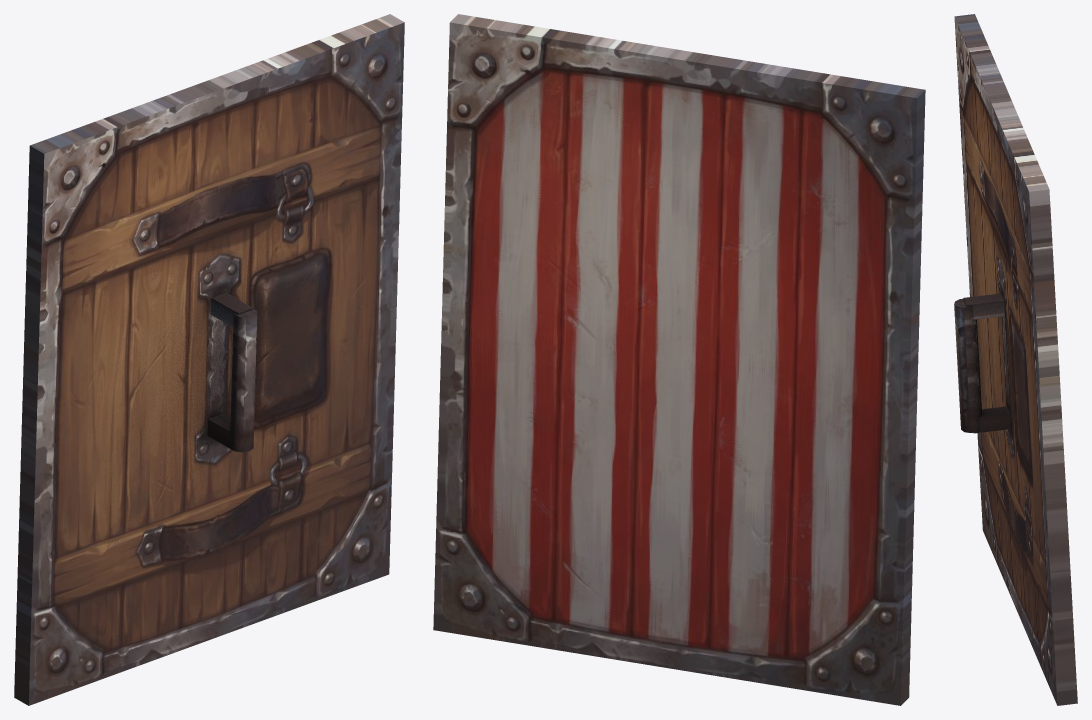
The model's file is shield_tower.glb.
The picture shows the model from 3 angles, left to right: view 1: azimuth 30°, elevation 25°; view 2: azimuth 150°, elevation 25°; view 3: azimuth 270°, elevation 25°; orthographic projection. The views are drawn at different scales.
Visible parts, largest first — view 1: shield_board; view 2: shield_board; view 3: shield_board.
Boxes of the visible parts, x1,y1,x2,y2 form: shield_board: (14,14,404,705); shield_board: (433,14,925,705); shield_board: (954,14,1077,705).
Size of the model in its own units: 0.6158 by 0.8258 by 0.1786.
Materials: 1 (1 with a texture image).
